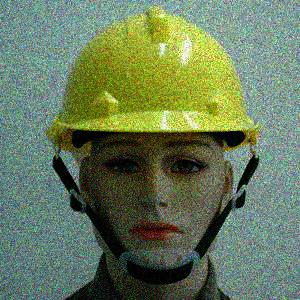helmet: (45, 7, 258, 266)
